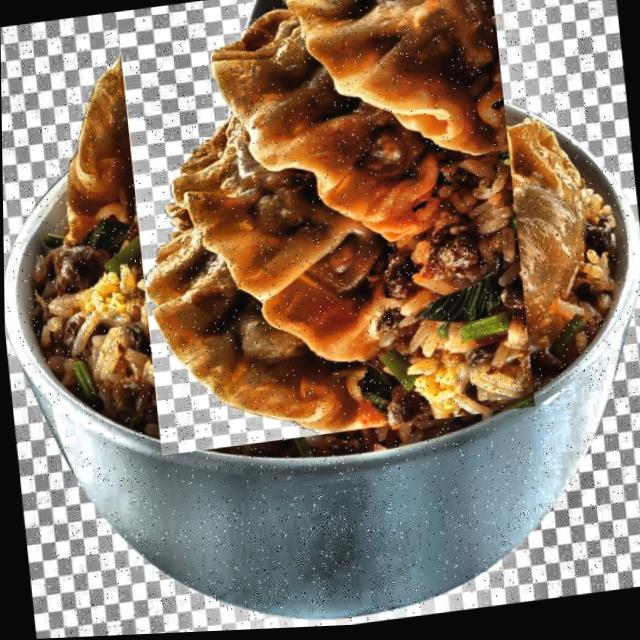Food: (80, 0, 566, 426)
